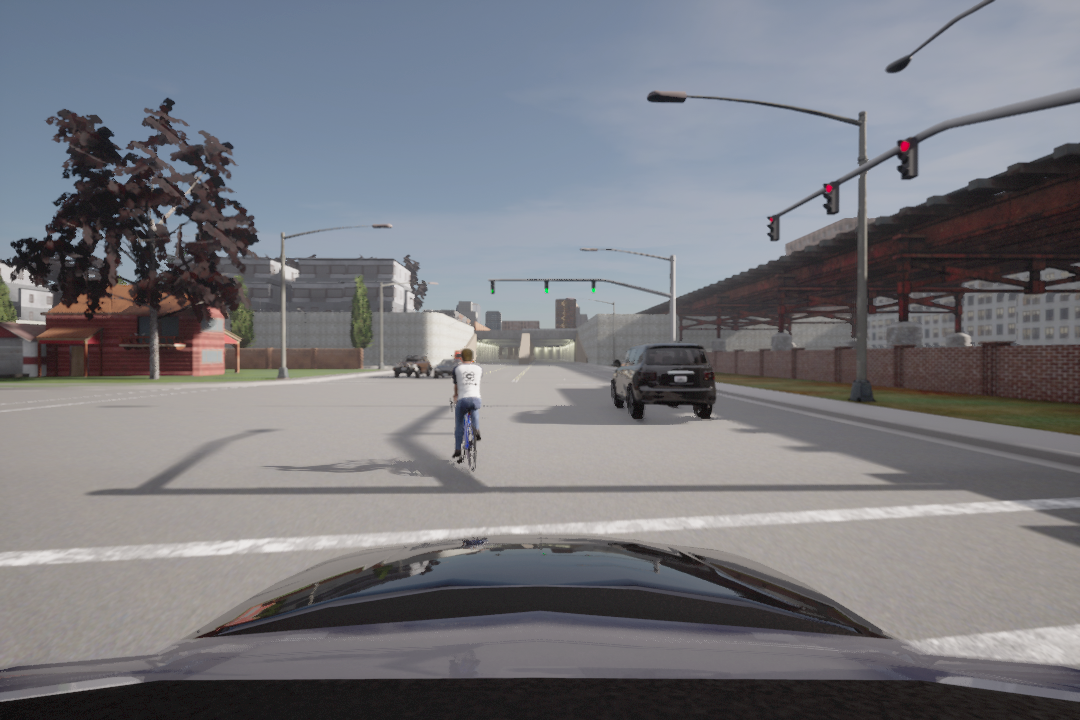TrafficLight: (897, 134, 917, 181), (819, 179, 841, 217), (764, 211, 781, 242), (488, 278, 497, 294), (542, 277, 550, 294), (590, 279, 598, 294)
